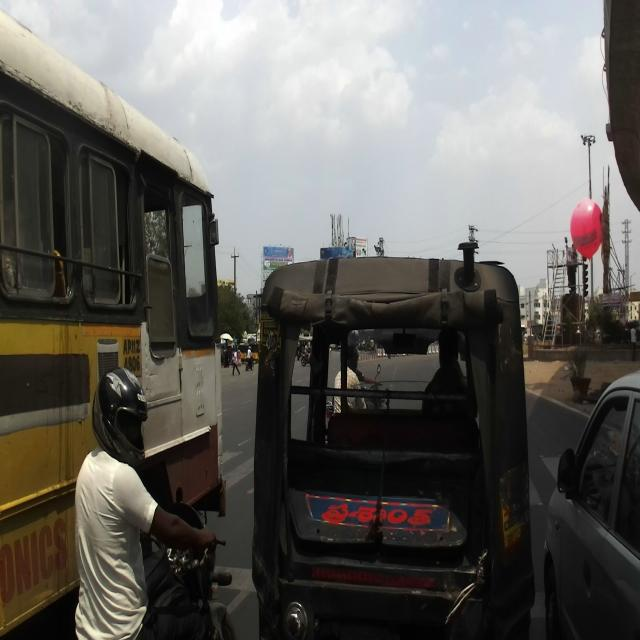Car_Hyundai: (540, 366, 640, 640)
autorickshaw: (250, 241, 537, 637)
bus: (0, 3, 227, 631)
